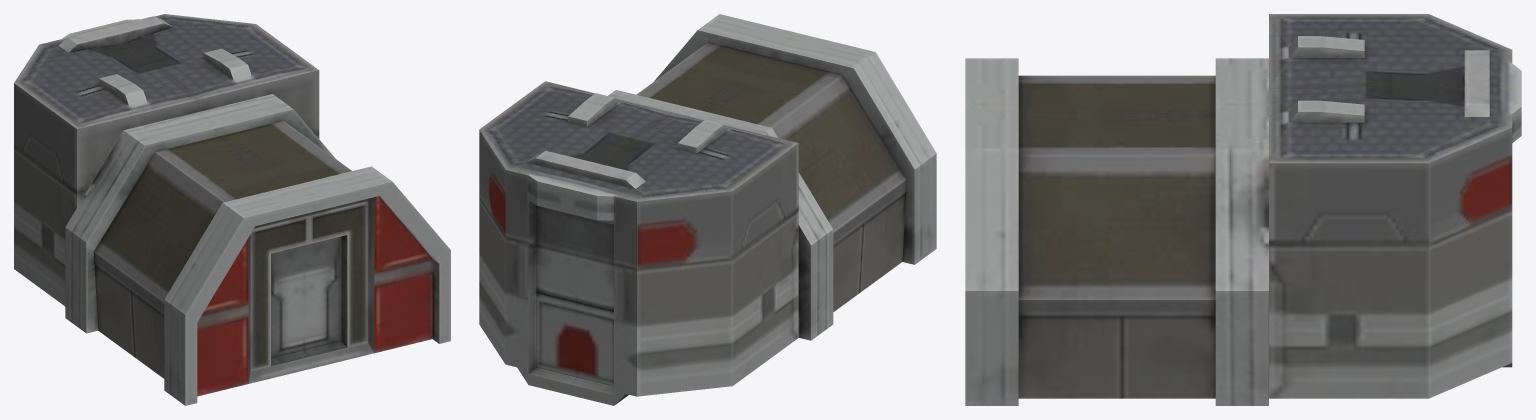
Rendered from Part - Main form 06a-CmWXR_S4.glb.
3 renders of one model, left to right at view 1: azimuth 30°, elevation 25°; view 2: azimuth 150°, elevation 25°; view 3: azimuth 270°, elevation 25°, orthographic. The views are drawn at different scales.
Visible parts, largest first — view 1: Main_form_06a, Main_form_06b; view 2: Main_form_06b, Main_form_06a; view 3: Main_form_06a, Main_form_06b.
Part boxes in pixels (box(x1,y1,x2,y2)): Main_form_06a: box(65, 94, 450, 405); Main_form_06b: box(14, 14, 319, 306); Main_form_06b: box(479, 81, 798, 405); Main_form_06a: box(608, 14, 936, 340); Main_form_06a: box(965, 58, 1268, 405); Main_form_06b: box(1269, 14, 1521, 398).
Bounding box in the file's own units: 2.11 × 1.61 × 3.03.
1 material, 1 textured.
